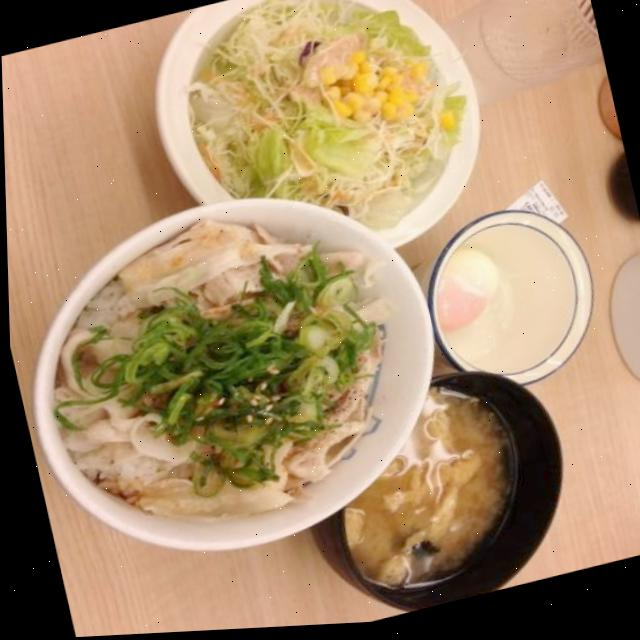汤锅炖物: (284, 345, 587, 629)
蔬菜料理: (131, 0, 505, 299)
